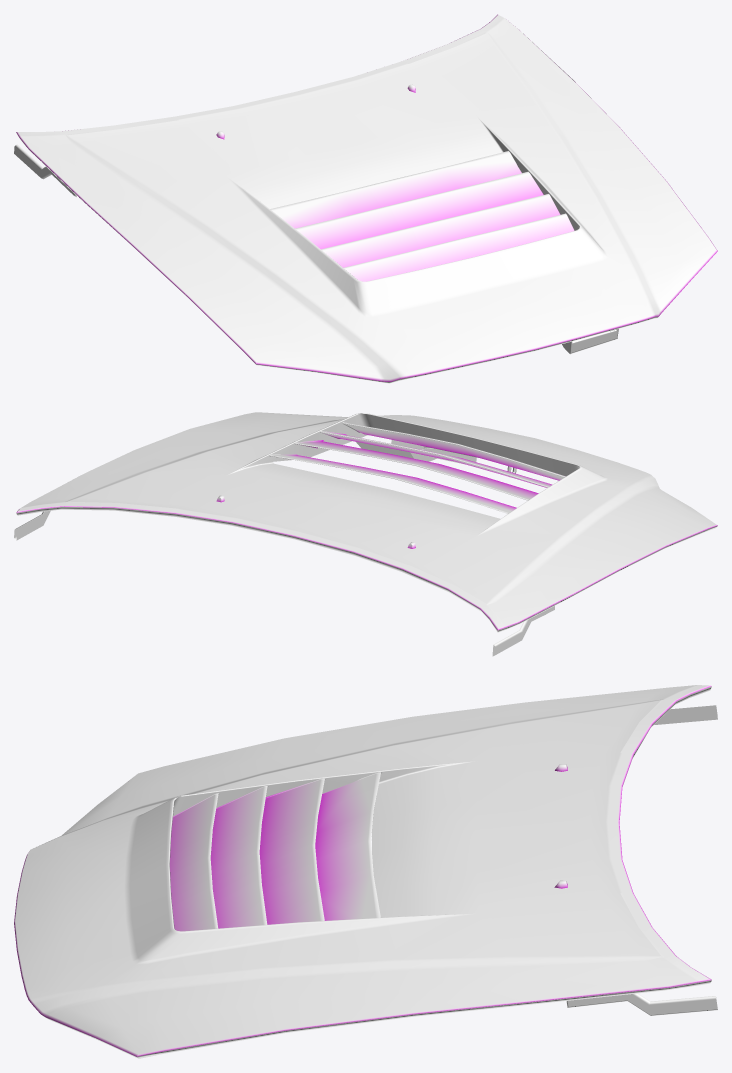
The model's file is Car_Nissan_SkylineGTRVspecR34_1999_Hood_SetE.fbx.
The picture shows the model from 3 angles, top to bottom: view 1: azimuth 30°, elevation 25°; view 2: azimuth 150°, elevation 25°; view 3: azimuth 270°, elevation 25°; orthographic projection. The views are drawn at different scales.
Parts seen in each view (by area): view 1: Hood 6; view 2: Hood 6; view 3: Hood 6.
Part boxes in pixels (x1,y1,x2,y2): Hood 6: [14, 14, 717, 383]; Hood 6: [14, 412, 717, 656]; Hood 6: [14, 685, 717, 1058].
Size of the model in its own units: 1.44 by 0.2992 by 1.43.
